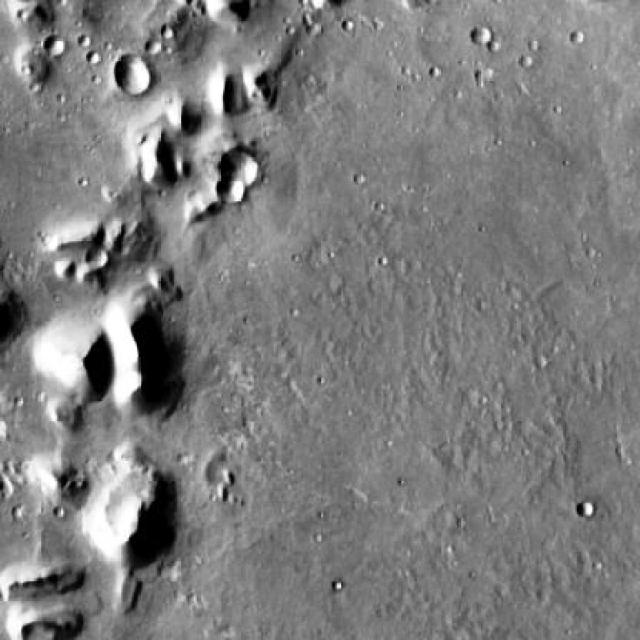crater: (223, 146, 262, 185), (114, 56, 152, 95), (222, 174, 249, 201), (45, 35, 66, 57), (471, 25, 492, 46), (580, 503, 597, 520)
